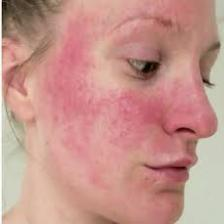Sensitif: (51, 0, 216, 221)
